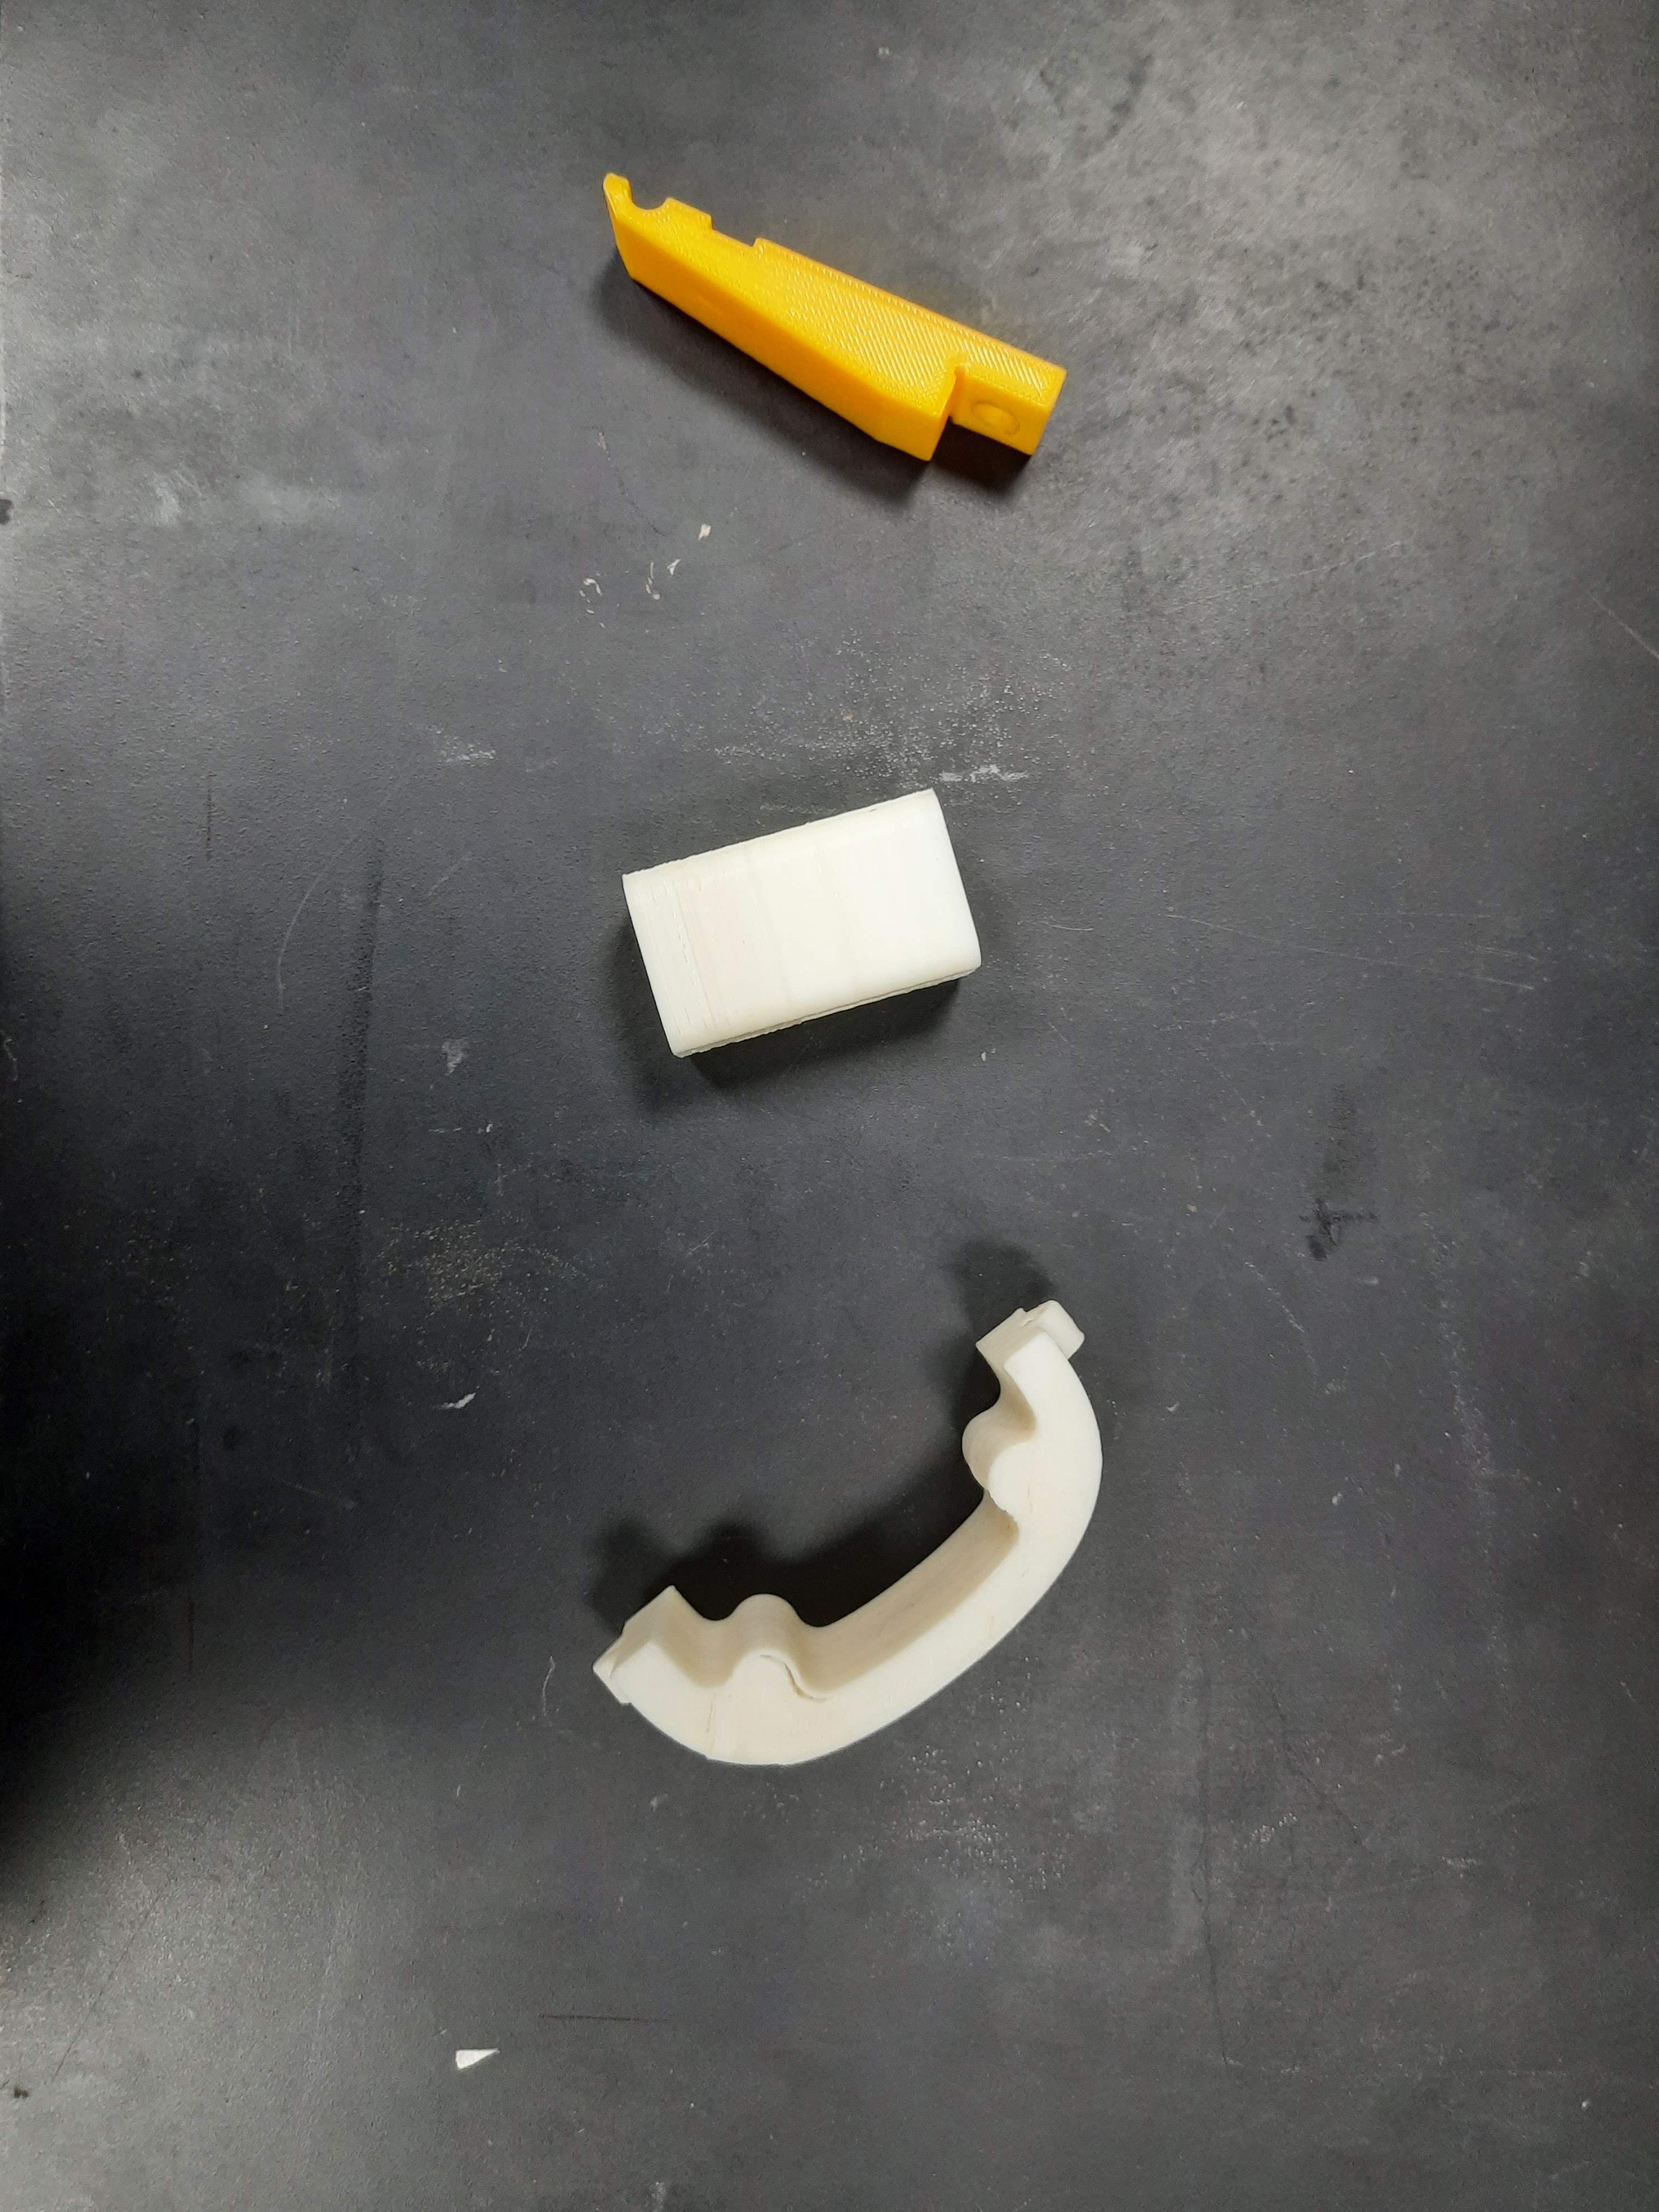ARC: (582, 1261, 1215, 1850)
CUBE: (624, 784, 986, 1059)
YELLOW: (542, 165, 1077, 498)
